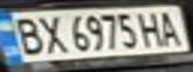5: (115, 10, 142, 49)
6: (63, 11, 90, 53)
7: (100, 11, 121, 51)
9: (84, 11, 106, 52)
A: (154, 8, 187, 47)
B: (6, 14, 48, 56)
H: (136, 9, 169, 48)
X: (33, 11, 66, 55)
